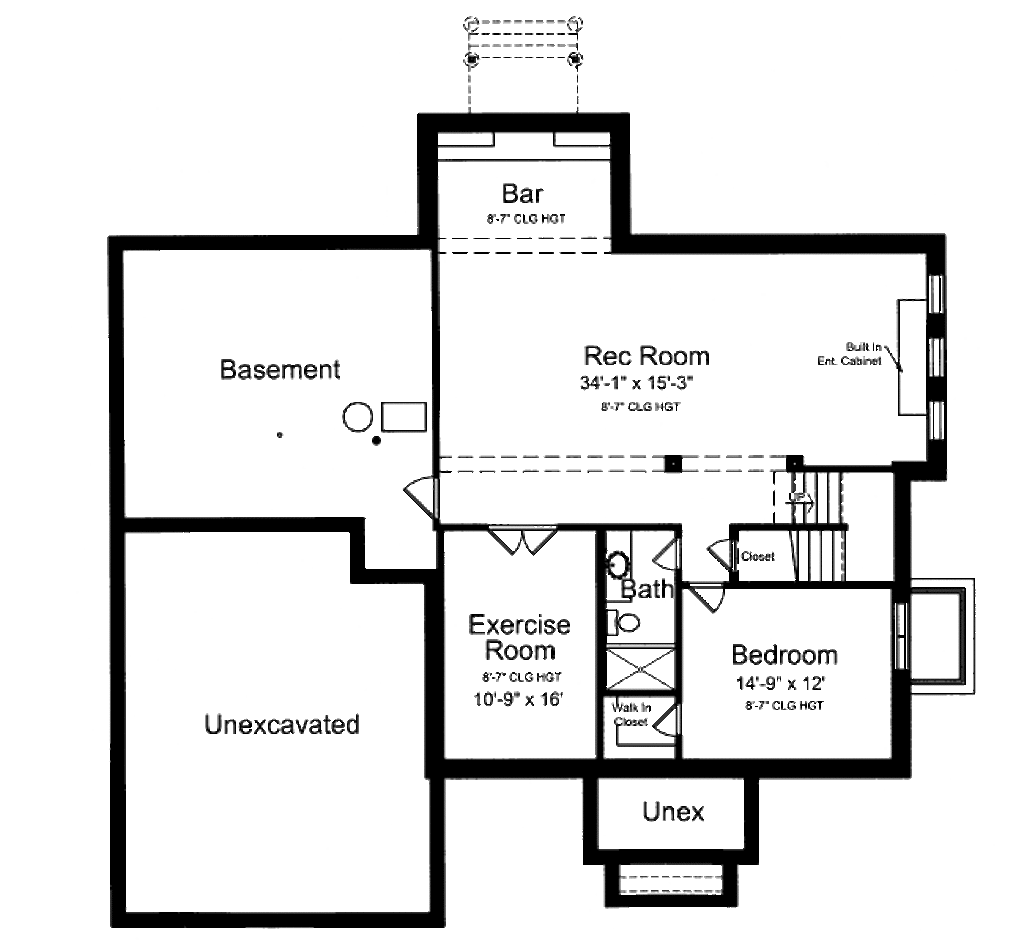door: (478, 520, 560, 556), (401, 472, 437, 526), (692, 585, 729, 613)
large_sink: (601, 606, 643, 647)
small_sink: (604, 528, 638, 603)
stairs: (728, 472, 850, 585)
windows: (926, 272, 953, 448), (889, 596, 912, 672)
